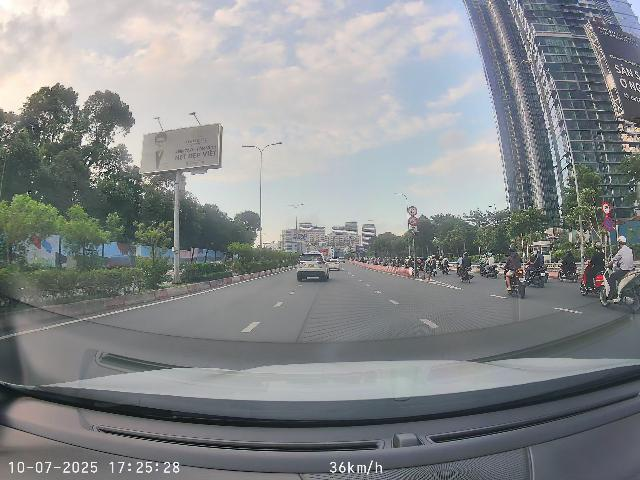127-toc-do-toi-da-60: (602, 202, 611, 215)
127-toc-do-toi-da-70: (408, 206, 418, 216)
130-cam-dung-va-do-xe: (604, 216, 613, 231)
